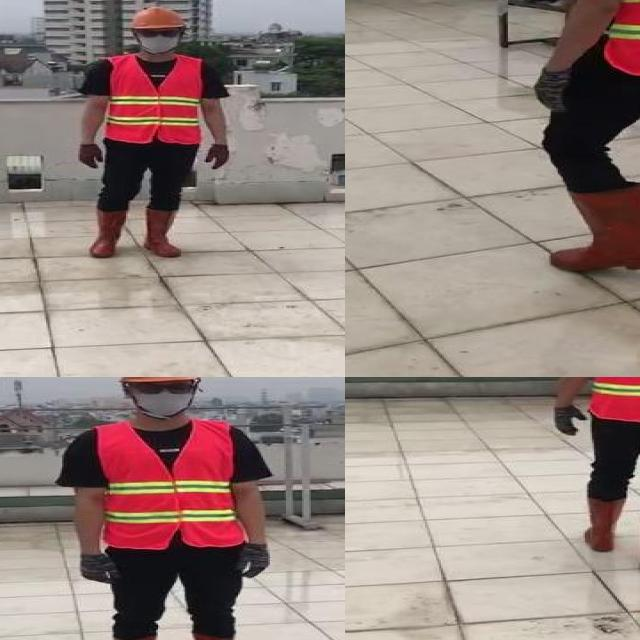boots: (549, 187, 640, 272), (582, 493, 624, 552), (146, 208, 184, 257), (90, 210, 124, 261)
face_mask: (129, 378, 196, 416), (133, 27, 183, 52)
glasses: (130, 378, 202, 398), (136, 27, 182, 38)
hand_glove: (531, 68, 574, 112), (71, 553, 121, 585), (552, 404, 590, 435), (243, 542, 272, 578), (202, 143, 232, 169), (76, 143, 105, 169)
head_helmet: (70, 7, 237, 255), (124, 8, 188, 30), (114, 377, 201, 386)
person: (53, 377, 282, 640), (511, 0, 640, 291), (542, 377, 640, 583)
vest: (94, 423, 250, 547), (104, 54, 200, 147)
